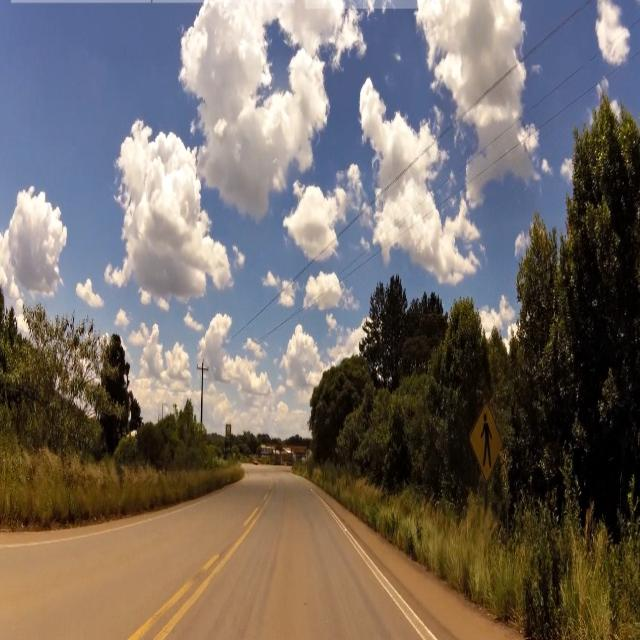A-32a: (468, 401, 505, 481)
